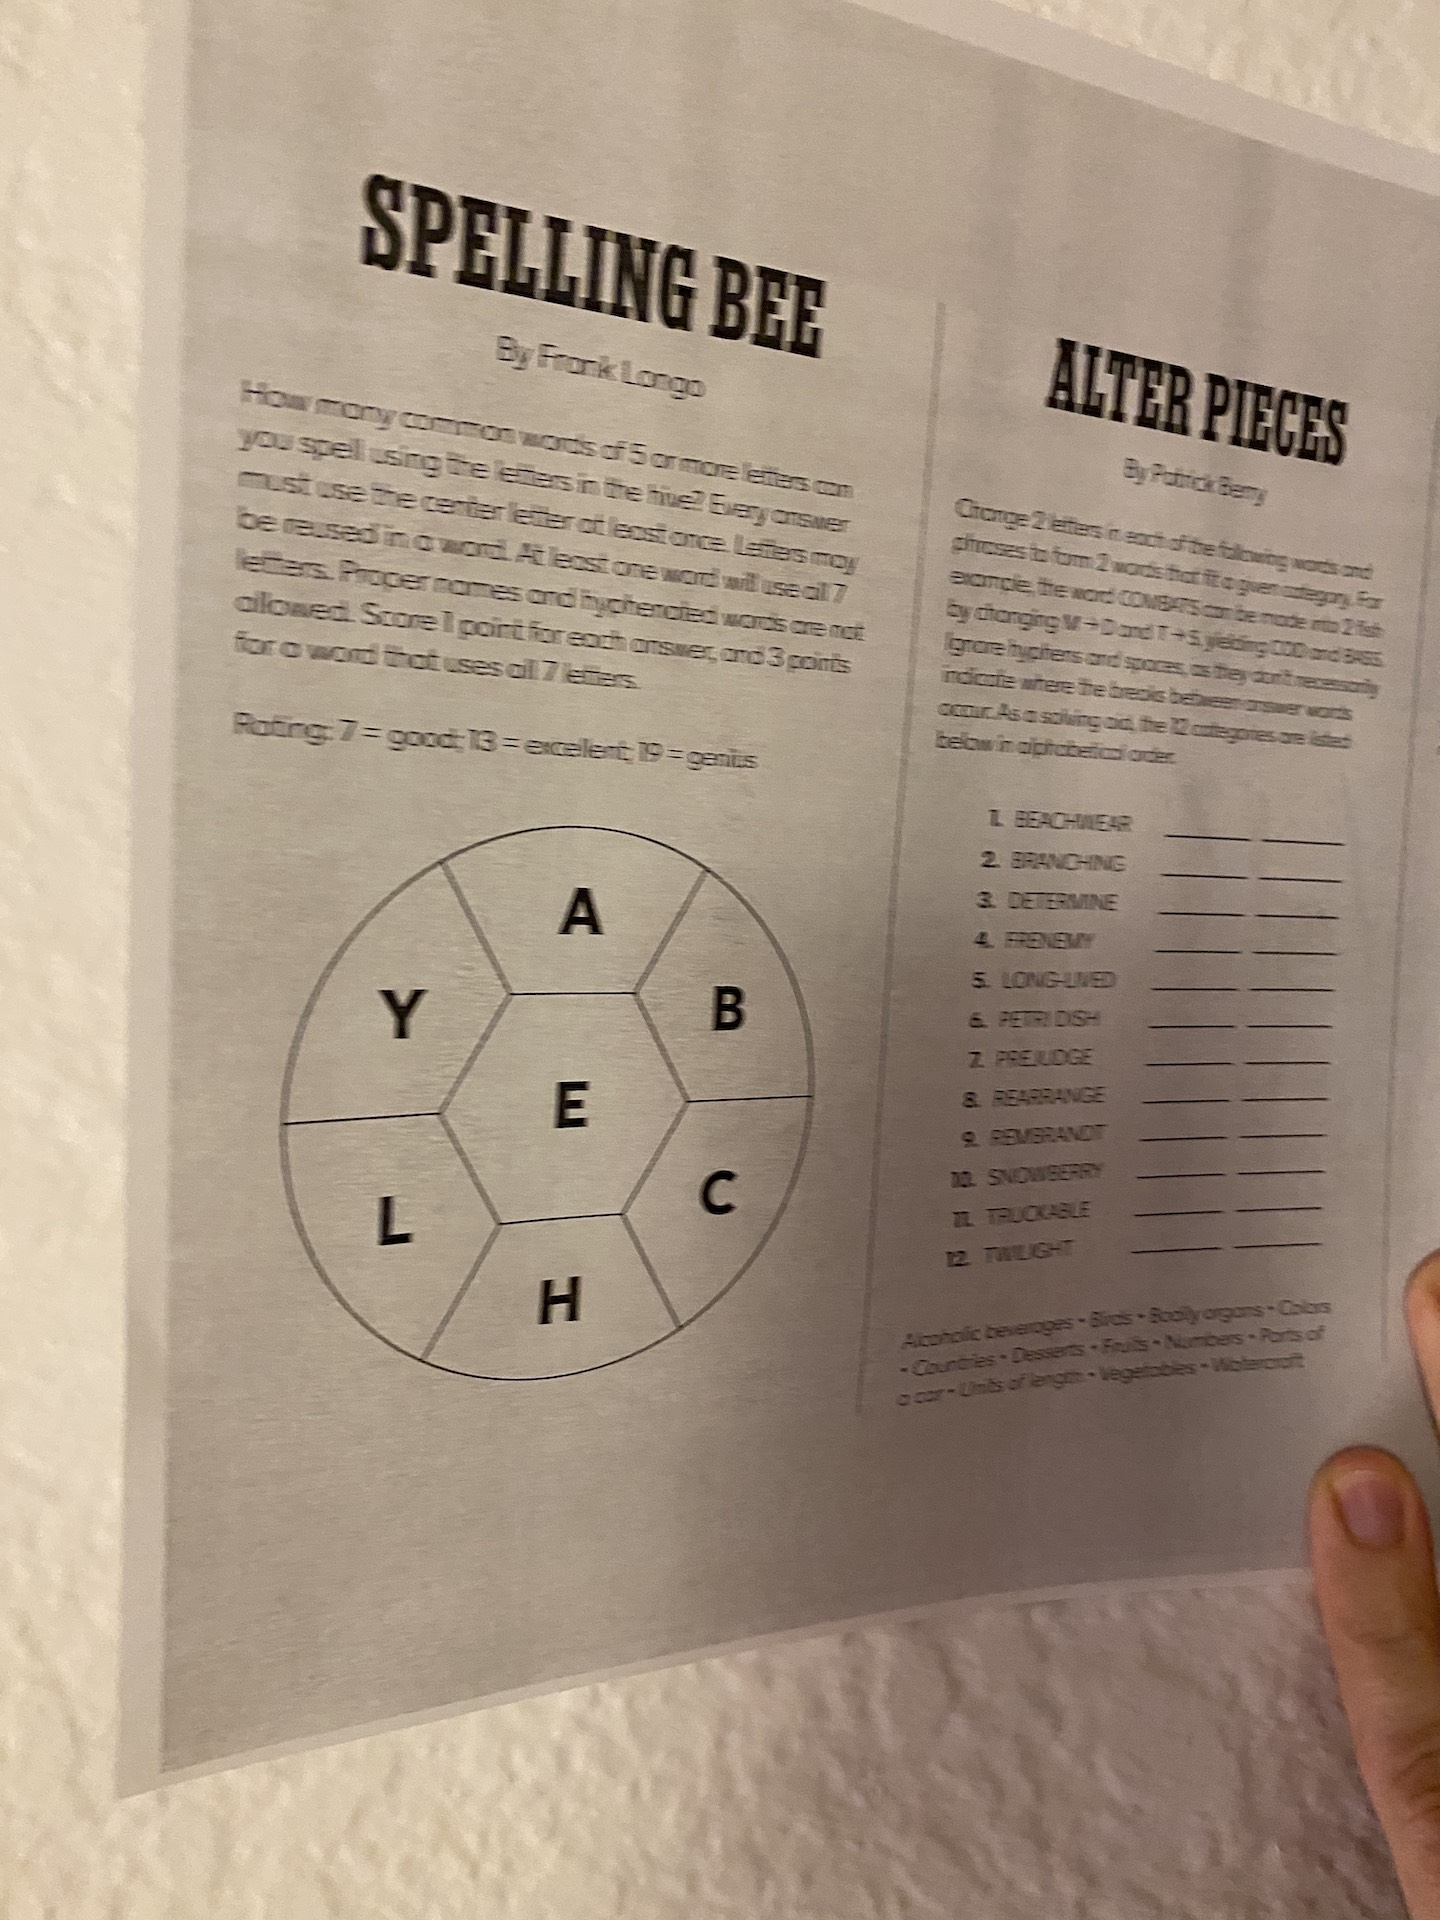Board: (259, 810, 836, 1397)
